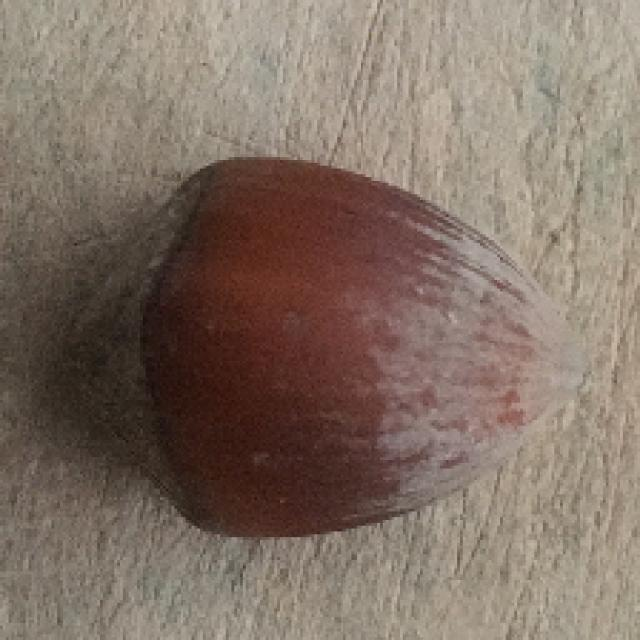QualityHazelnut: (63, 151, 592, 542)
